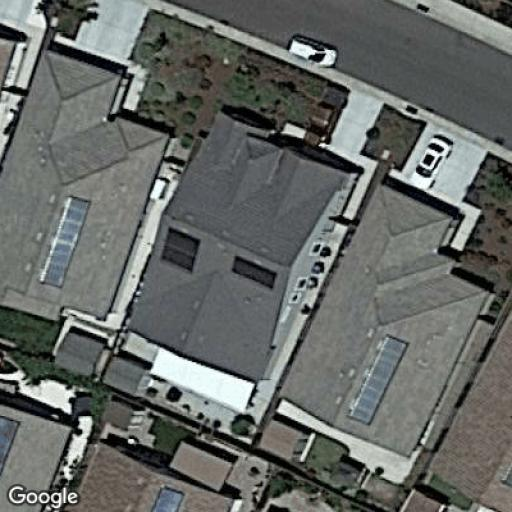solar-panel: (346, 333, 412, 427), (37, 193, 92, 288), (228, 248, 278, 292), (160, 224, 201, 274), (0, 418, 24, 472), (148, 484, 185, 512)
